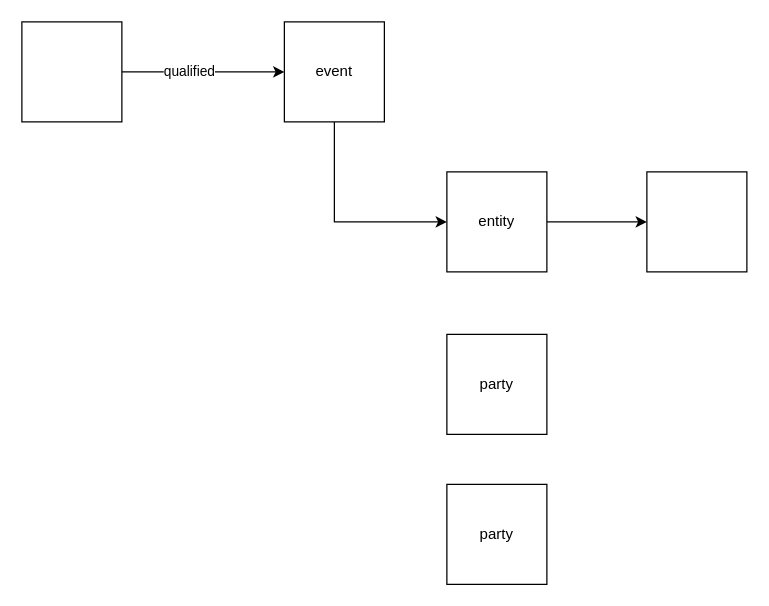
This 769x606 diagram has some shape labels left out. Here are the shapes that lost their labels. From the top down, the box of each, then its label:
(21, 21, 122, 122): signal
(646, 171, 747, 272): state
